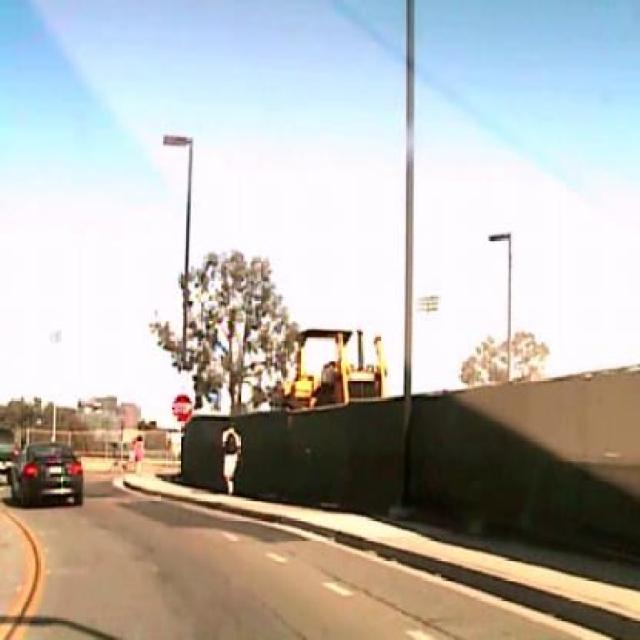stop: (172, 394, 192, 422)
